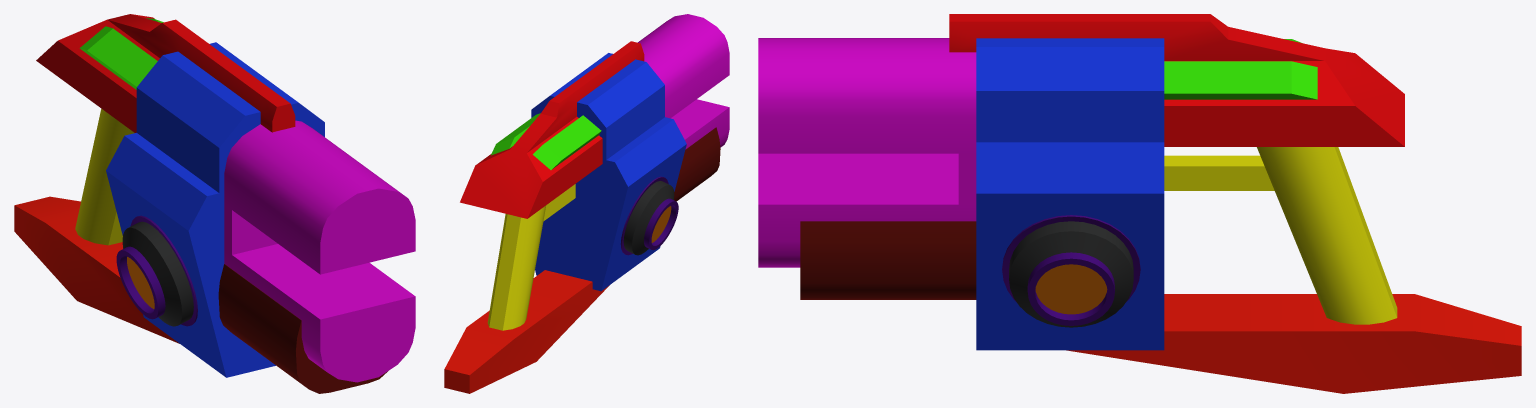
File: gravGun.fbx
3 renders of one model, left to right at view 1: azimuth 30°, elevation 25°; view 2: azimuth 150°, elevation 25°; view 3: azimuth 270°, elevation 25°, orthographic. The views are drawn at different scales.
Parts seen in each view (by area): view 1: Cube; view 2: Cube; view 3: Cube.
Boxes of the visible parts, x1=… form: Cube: x1=14, y1=14, x2=415, y2=393; Cube: x1=444, y1=14, x2=729, y2=393; Cube: x1=758, y1=14, x2=1521, y2=393.
Size of the model in its own units: 13.21 by 19.62 by 37.97.
